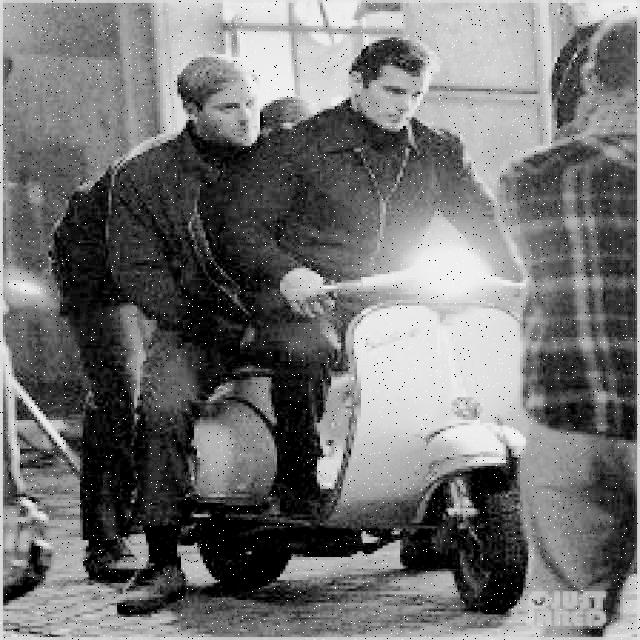Bike: (218, 271, 560, 611)
